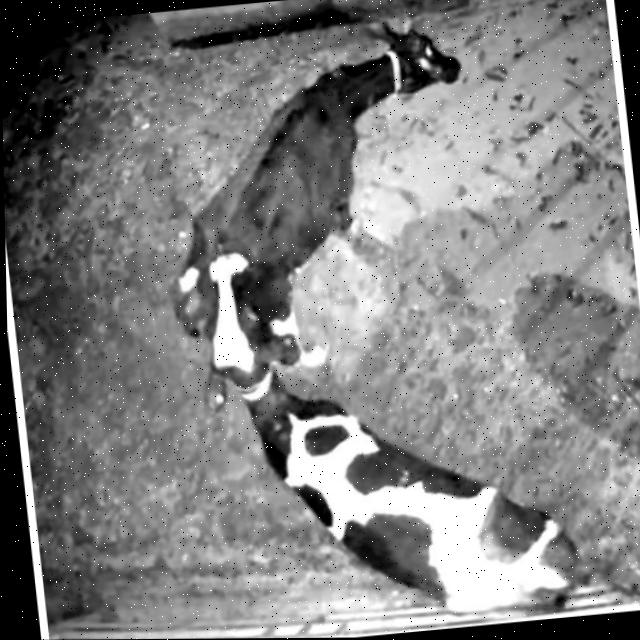propping: (141, 198, 331, 409)
